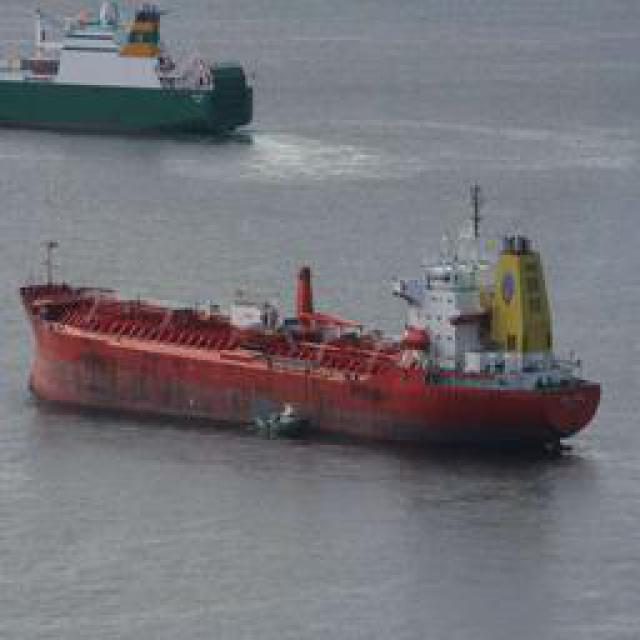Ship: (16, 249, 614, 449)
